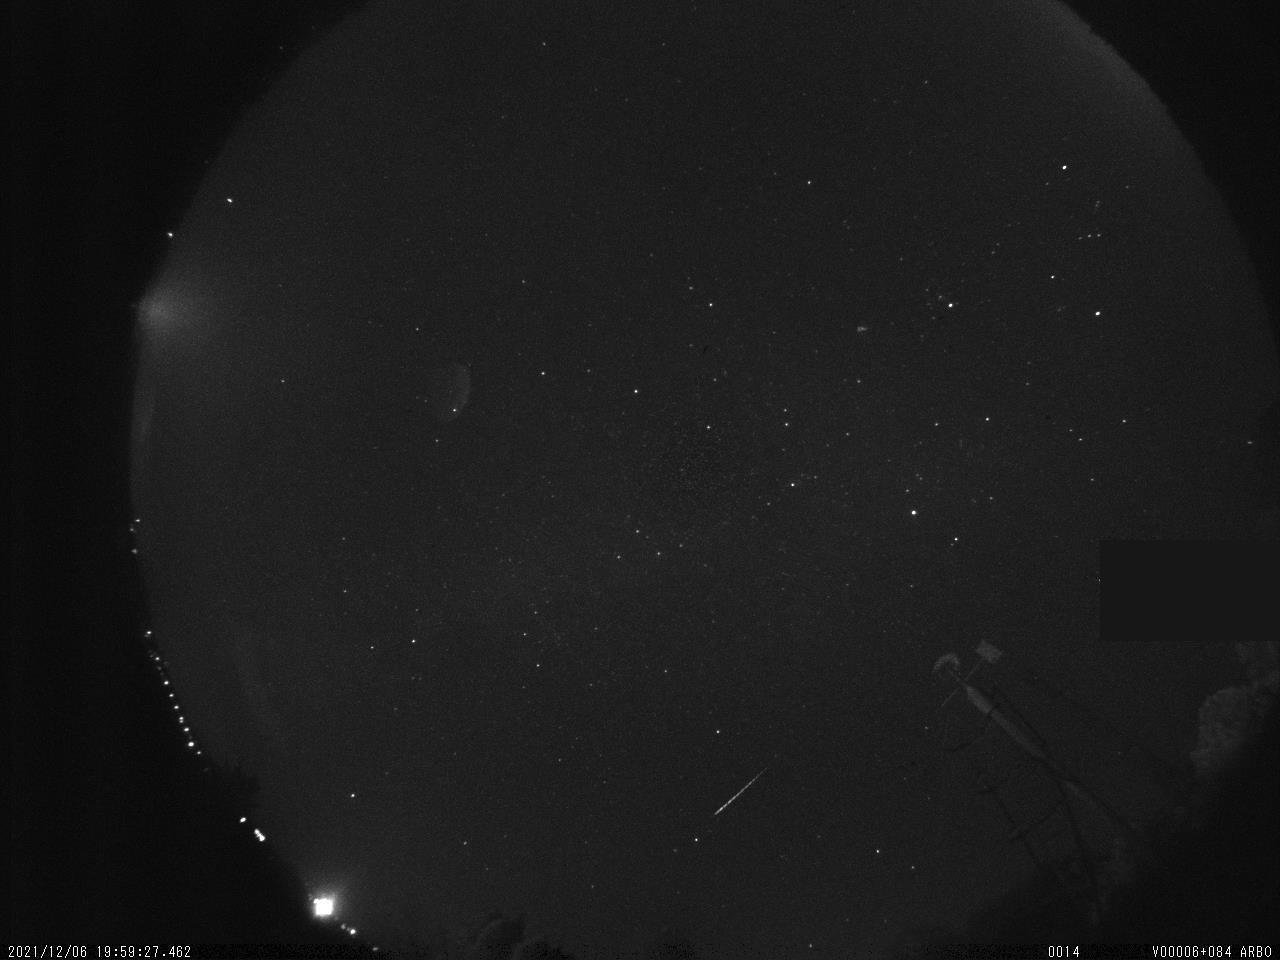meteor: (701, 758, 781, 819)
